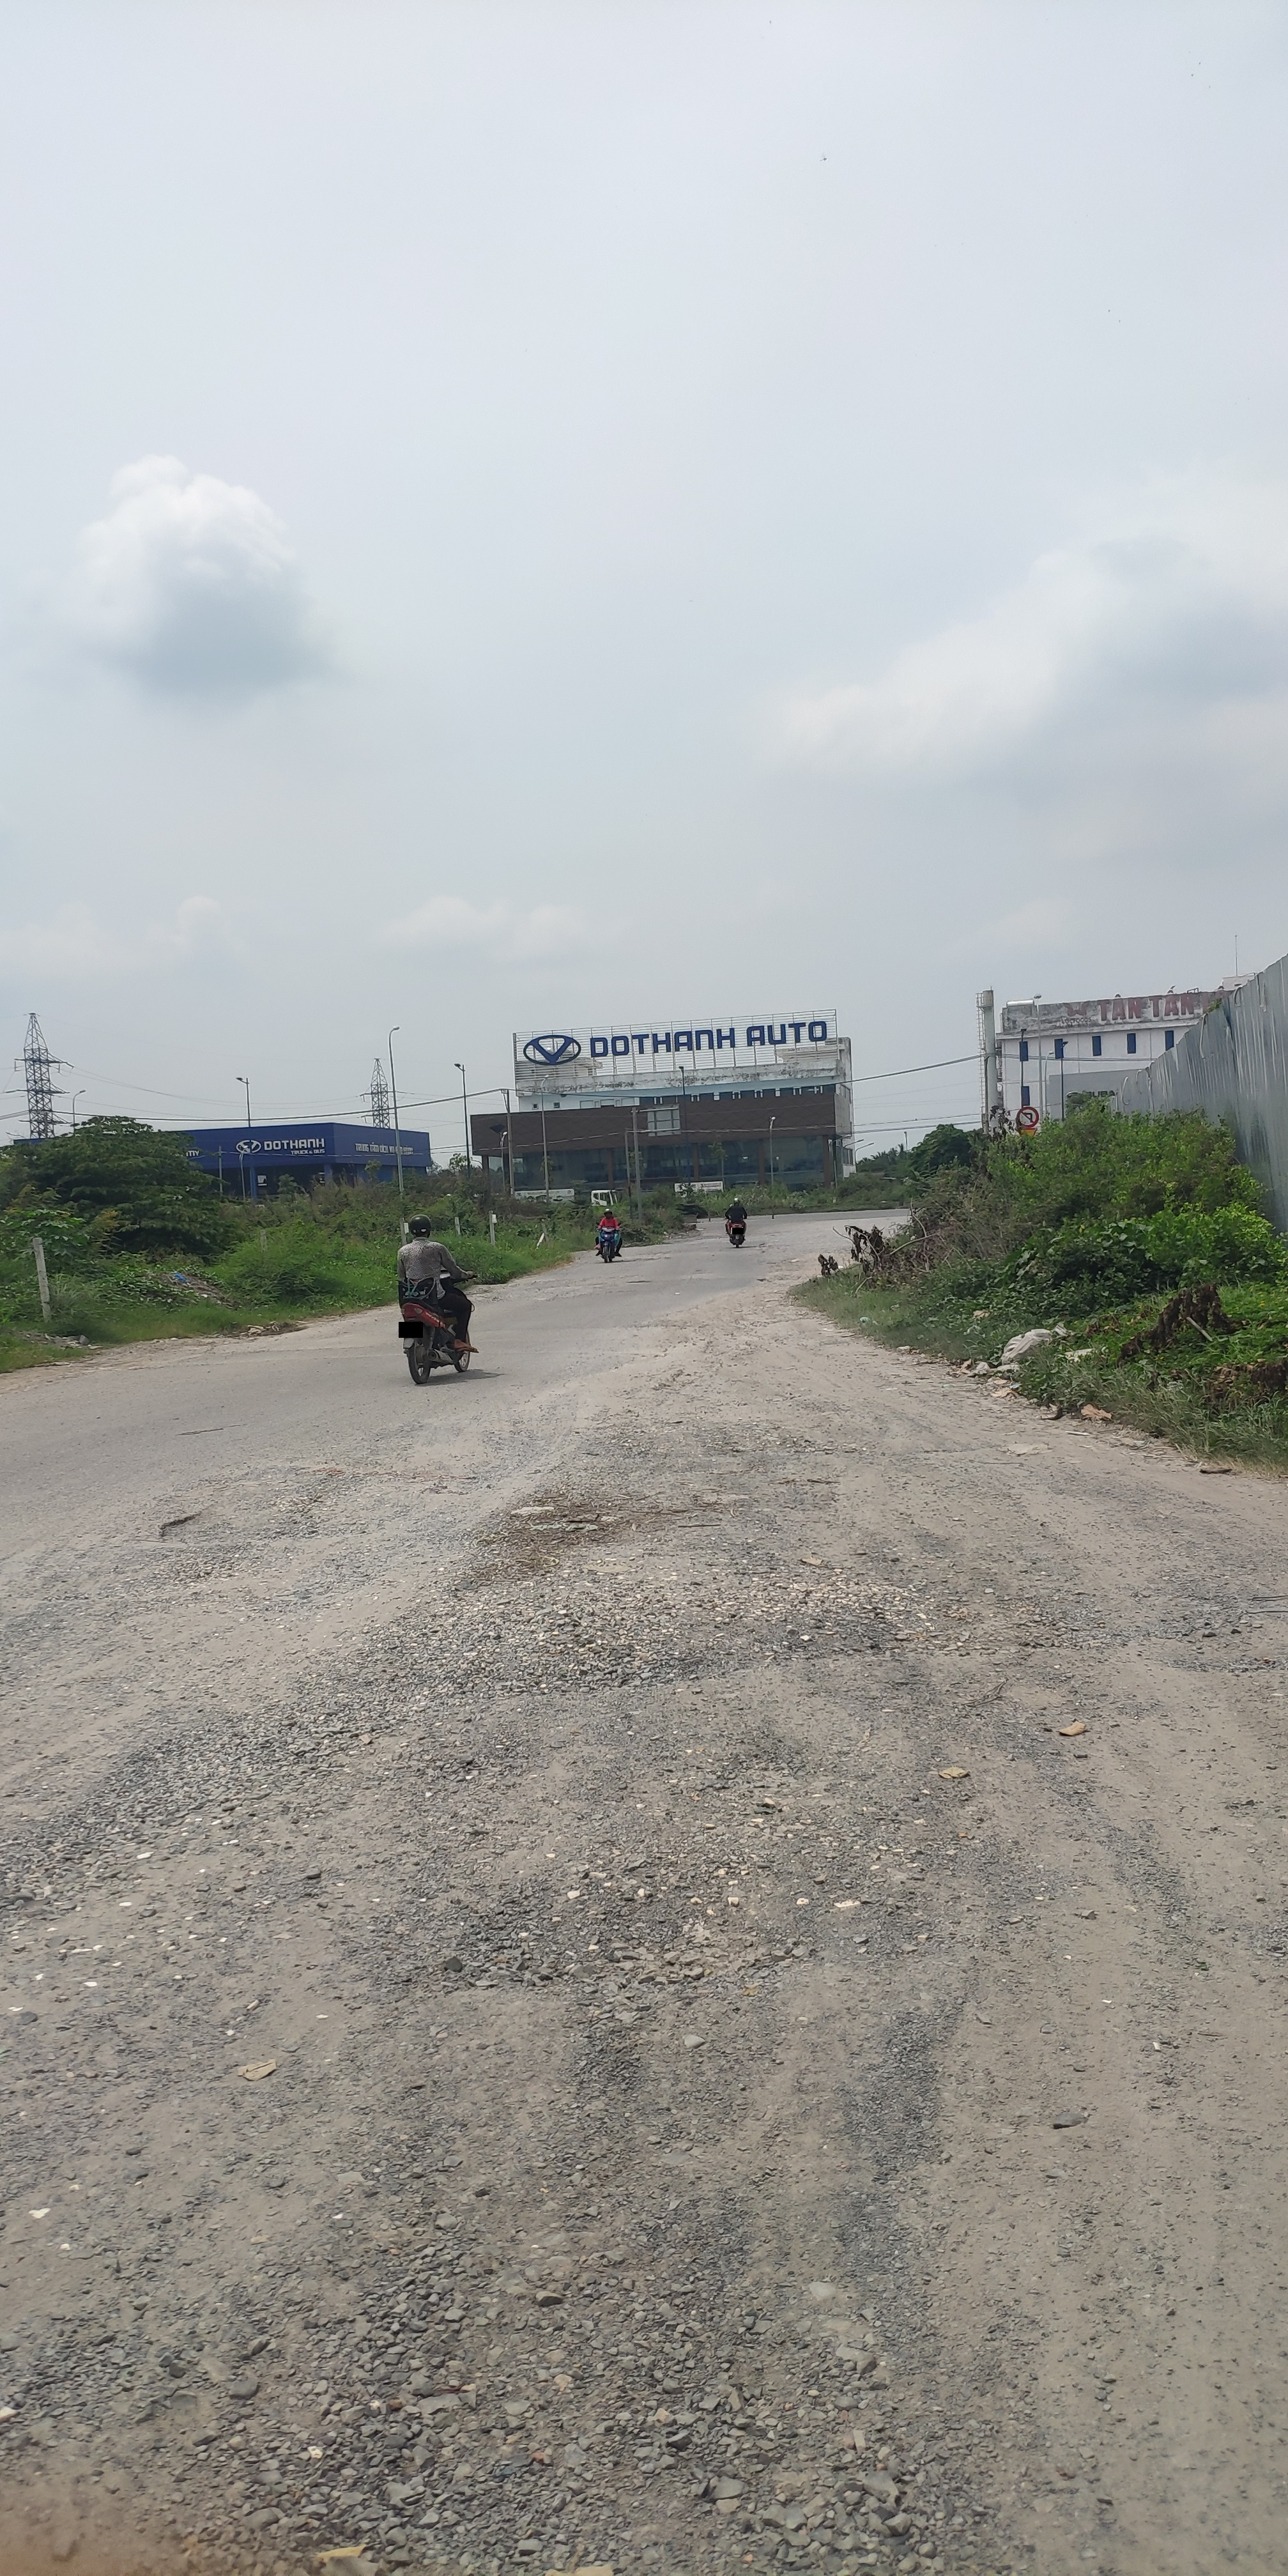hole: (448, 1590, 925, 1717), (148, 1487, 281, 1561), (697, 1416, 881, 1467), (526, 1492, 629, 1548)
